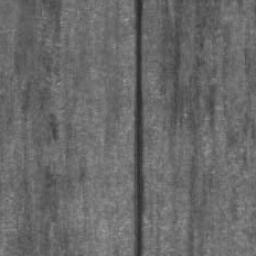Scratches: (132, 0, 145, 256)
